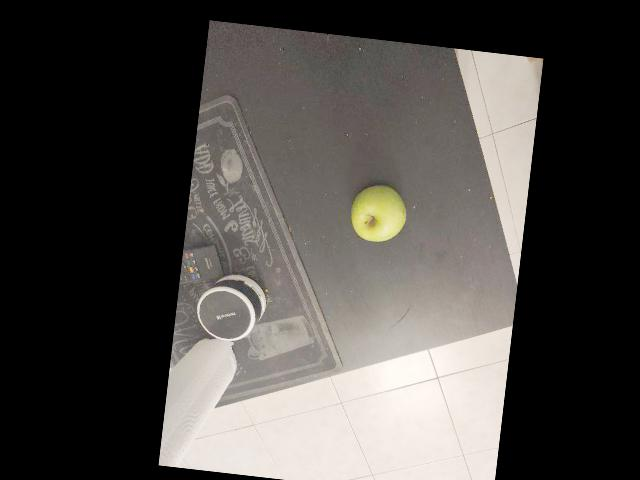apple: (409, 309, 497, 387)
